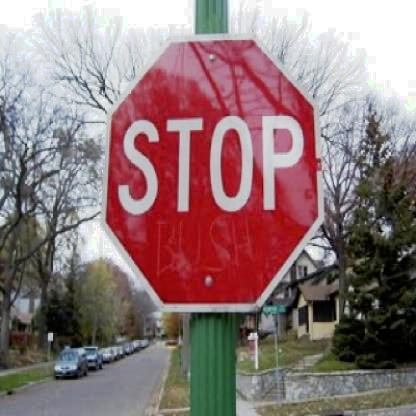Stop Sign: (102, 15, 324, 320)
